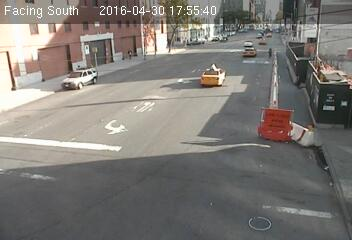neg: (135, 156, 183, 220), (245, 106, 286, 161), (43, 164, 81, 213), (17, 27, 43, 62), (86, 10, 110, 41), (43, 84, 62, 110), (151, 7, 166, 27), (263, 30, 268, 36), (275, 27, 278, 31)
